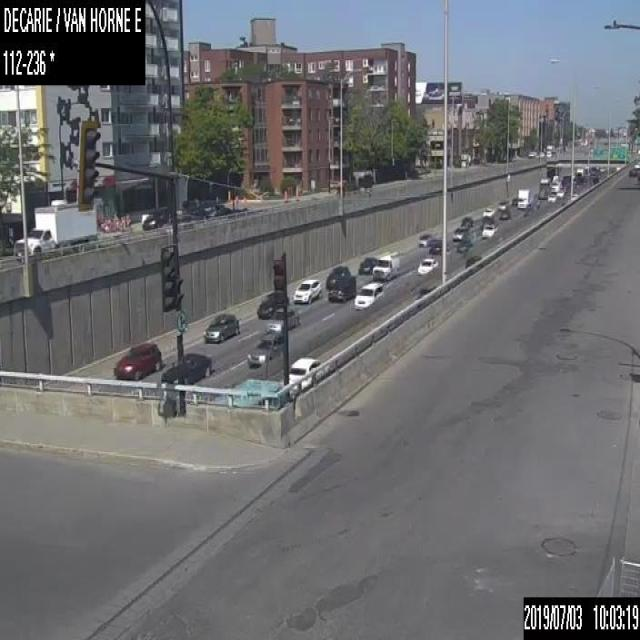construction: (226, 188, 230, 200), (295, 185, 298, 198), (283, 188, 286, 199)
vehicle: (12, 198, 97, 258), (112, 339, 160, 380), (160, 352, 211, 384), (246, 330, 284, 365), (203, 311, 239, 341), (288, 356, 320, 384), (256, 290, 288, 318), (354, 281, 383, 309), (372, 250, 399, 279), (268, 305, 299, 330), (292, 278, 322, 302), (327, 279, 355, 301), (142, 208, 170, 228), (326, 266, 350, 288), (418, 256, 438, 274), (357, 256, 377, 273), (516, 187, 531, 209), (463, 253, 482, 268), (428, 239, 448, 253), (537, 177, 550, 198), (480, 223, 497, 239), (452, 225, 468, 240), (417, 232, 432, 246), (456, 239, 472, 252), (479, 214, 493, 228), (460, 214, 472, 227), (482, 206, 493, 218), (549, 179, 559, 192), (498, 208, 510, 218), (545, 144, 554, 156), (498, 199, 508, 209), (546, 194, 556, 202), (556, 189, 564, 197), (511, 196, 516, 204)
